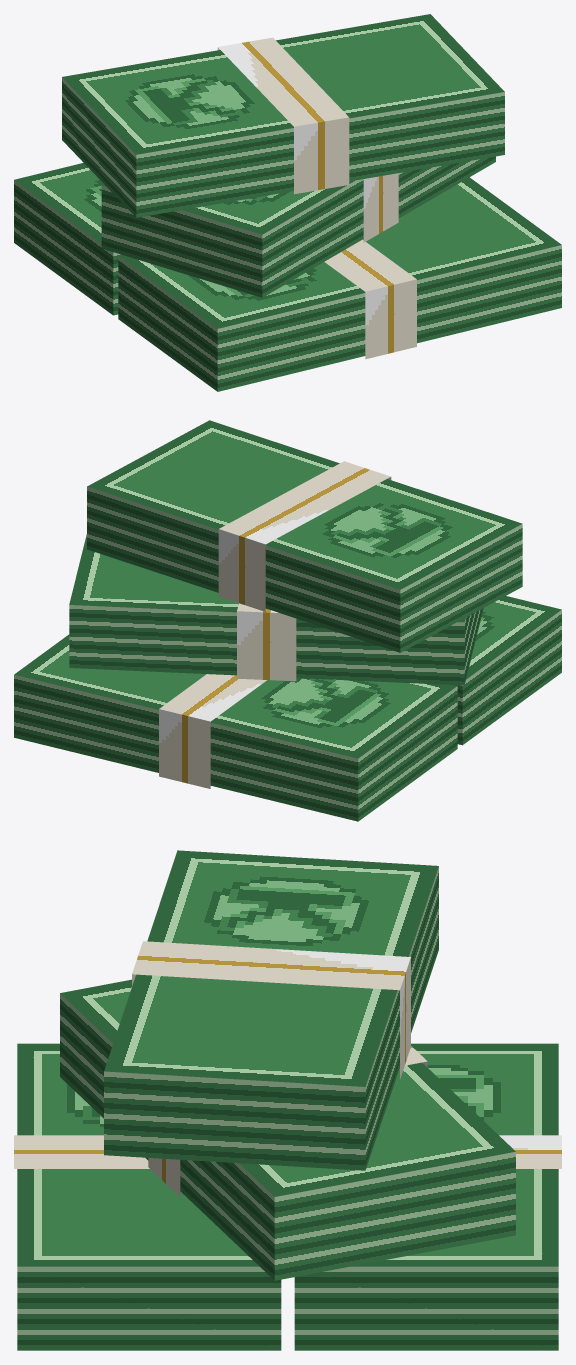
Rendered from money-noteStack.glb.
3 views of the same model, one above another, from view 1: azimuth 30°, elevation 25°; view 2: azimuth 150°, elevation 25°; view 3: azimuth 270°, elevation 25° (orthographic). The views are drawn at different scales.
Visible parts, largest first — view 1: money.noteStack; view 2: money.noteStack; view 3: money.noteStack.
Part boxes in pixels (x1,y1,x2,y2): money.noteStack: [14, 14, 561, 391]; money.noteStack: [14, 420, 561, 821]; money.noteStack: [14, 850, 561, 1350].
Bounding box in the file's own units: 1.48 × 0.7245 × 1.34.
3 materials, 3 textured.
